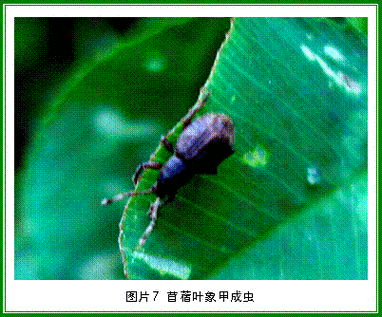Curculionidae: (100, 88, 236, 248)
